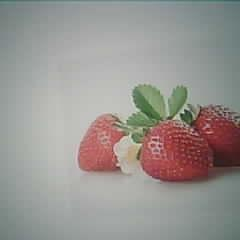straw-ripe: (139, 118, 214, 181), (78, 111, 128, 173)
